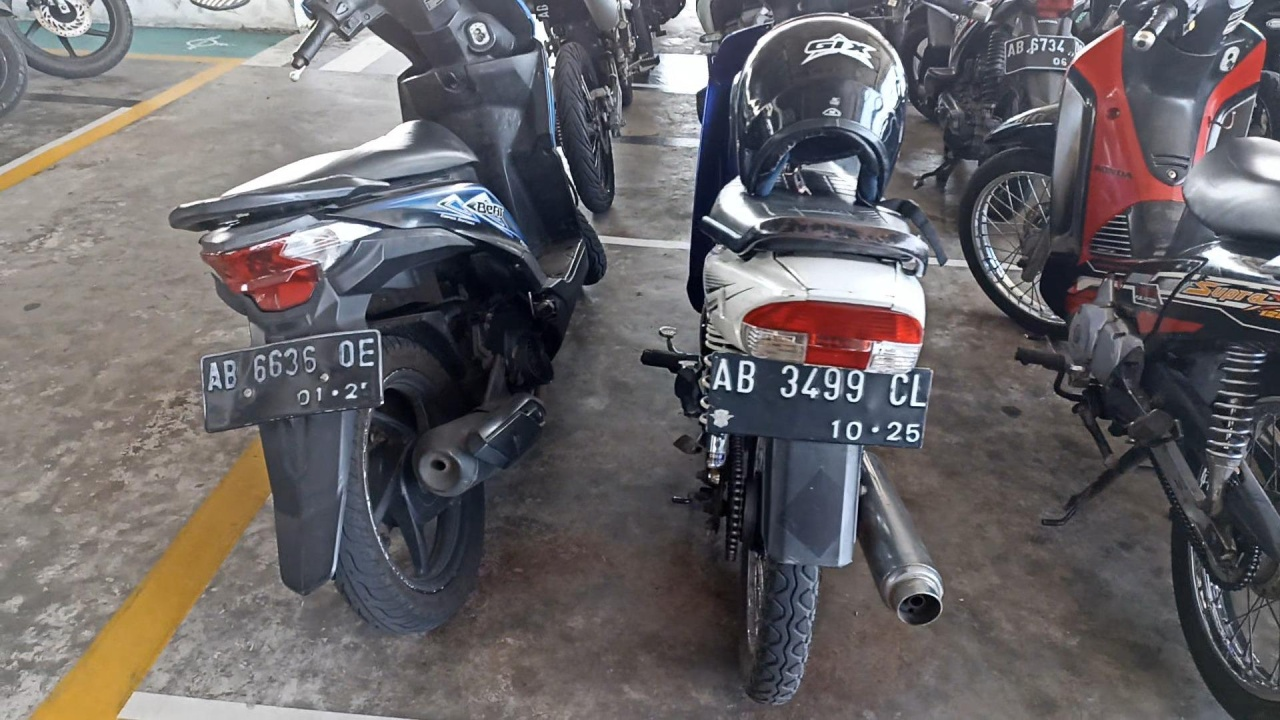plate: (707, 352, 933, 450), (201, 329, 383, 434)
